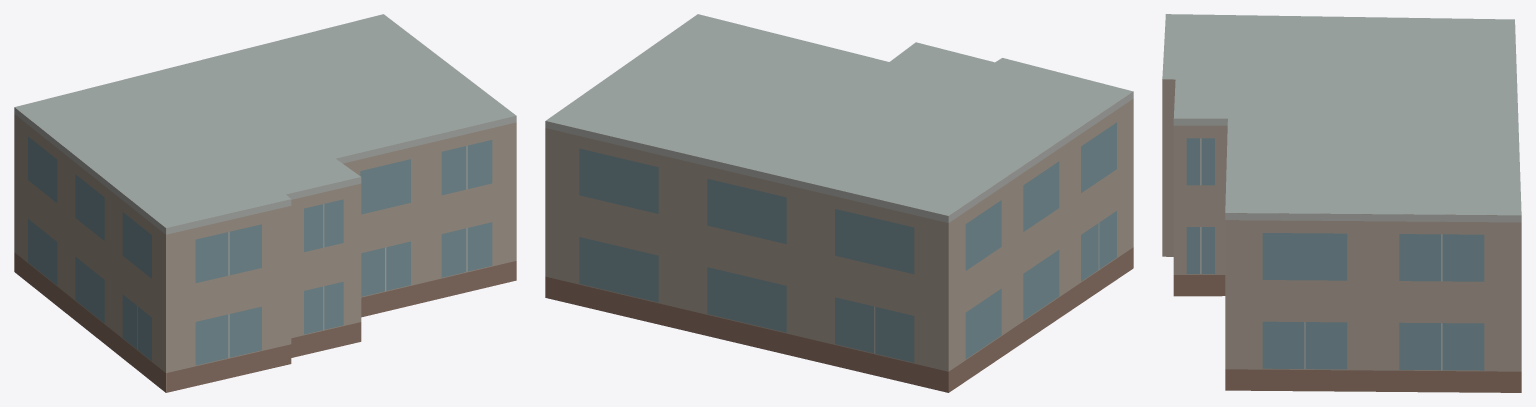
The model's file is survey-upis-32878977.glb.
3 views of the same model, side by side, from view 1: azimuth 30°, elevation 25°; view 2: azimuth 150°, elevation 25°; view 3: azimuth 270°, elevation 25° (orthographic). The views are drawn at different scales.
Visible parts, largest first — view 1: survey-upis-32878977.tmp; view 2: survey-upis-32878977.tmp; view 3: survey-upis-32878977.tmp.
Part boxes in pixels (box(x1,y1,x2,y2)): survey-upis-32878977.tmp: box(14, 14, 516, 392); survey-upis-32878977.tmp: box(545, 14, 1133, 392); survey-upis-32878977.tmp: box(1162, 14, 1521, 392).
Bounding box in the file's own units: 14.84 × 6.1 × 11.2.
